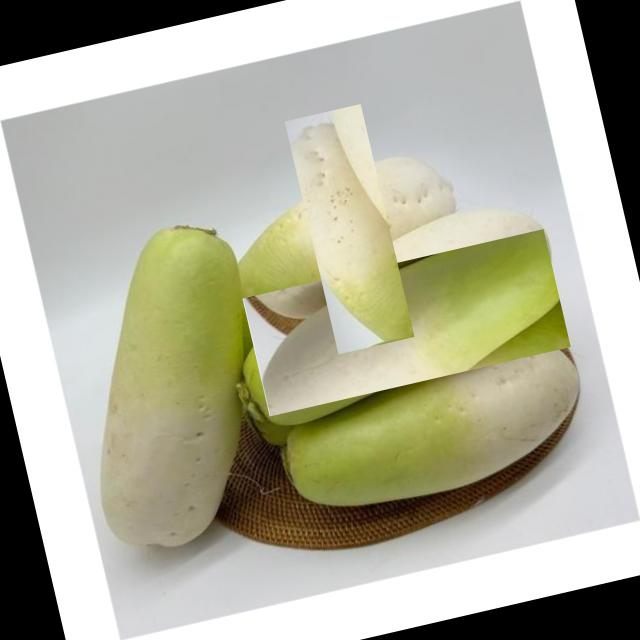radish: (242, 228, 570, 416), (253, 132, 444, 324)
